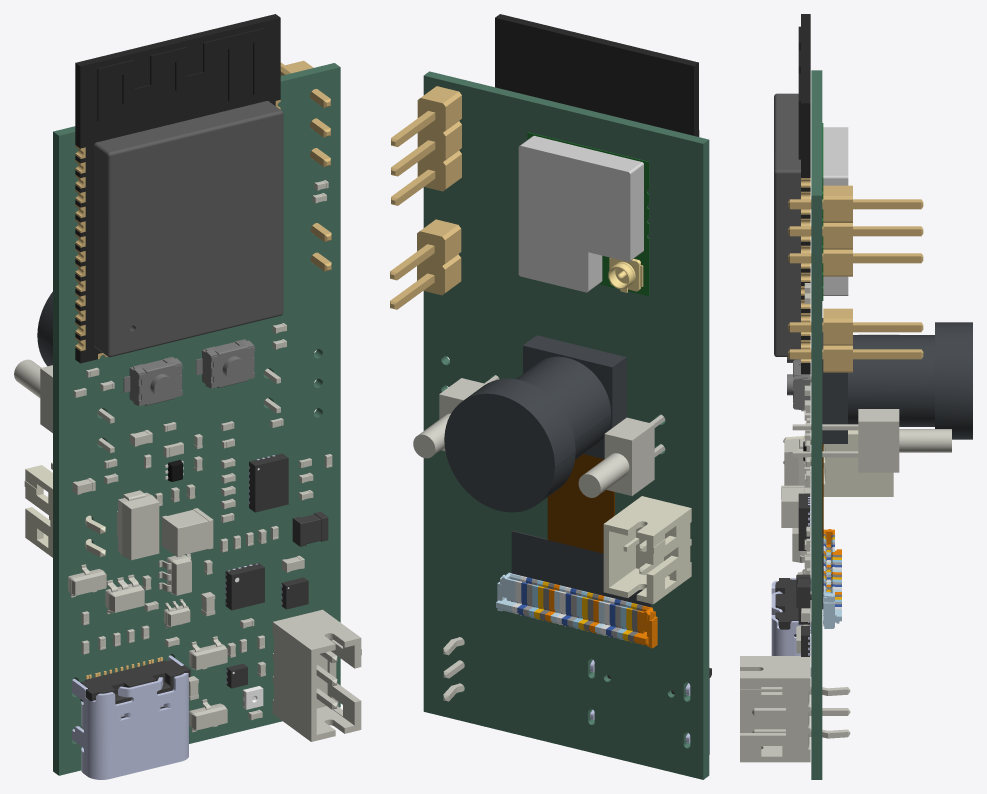
File: board.glb
3 renders of one model, left to right at view 1: azimuth 30°, elevation 25°; view 2: azimuth 150°, elevation 25°; view 3: azimuth 270°, elevation 25°, orthographic. The views are drawn at different scales.
Visible parts, largest first — view 1: OCRPCB-unsaved-export-ZQ7tpQ_PCB__259, ESP32-S3-WROOM-1__18, ESP32-S3-WROOM-1__17, UJ20-C-H-G-SMT-1-P16-TR_UJ20-C-H-G-SMT-1-P16-TR__110, JST_B3B_PH_K__128, ESP32-S3-WROOM-1__16, D_SMA__222, JST_B2B_PH_K__227, SW_SPST_TS-1088-xR020_1__215, SW_SPST_TS-1088-xR020__171, UJ20-C-H-G-SMT-1-P16-TR_UJ20-C-H-G-SMT-1-P16-TR__109, L_1210_3225Metric__160 (+12 smaller); view 2: OCRPCB-unsaved-export-ZQ7tpQ_PCB__259, Camera body__261, Extruded__258, ESP32-S3-WROOM-1__17, JST_B2B_PH_K__227, PinHeader_1x03_P254mm_Vertical__254, LED_D2.0mm_W4.8mm_H2.5mm_FlatTop_1__255, FPC Bottom__260, FPC__262, PinHeader_1x02_P254mm_Vertical__228, LED_D2.0mm_W4.8mm_H2.5mm_FlatTop__253, Open CASCADE STEP translator 6.8 2.1.1.1__256 (+4 smaller); view 3: Camera body__261, OCRPCB-unsaved-export-ZQ7tpQ_PCB__259, JST_B3B_PH_K__128, ESP32-S3-WROOM-1__18, PinHeader_1x03_P254mm_Vertical__254, LED_D2.0mm_W4.8mm_H2.5mm_FlatTop__253, PinHeader_1x02_P254mm_Vertical__228, JST_B2B_PH_K__227, ESP32-S3-WROOM-1__17, Extruded__258, UJ20-C-H-G-SMT-1-P16-TR_UJ20-C-H-G-SMT-1-P16-TR__110, UJ20-C-H-G-SMT-1-P16-TR_UJ20-C-H-G-SMT-1-P16-TR__109 (+6 smaller).
Boxes of the visible parts, x1=… form: OCRPCB-unsaved-export-ZQ7tpQ_PCB__259: x1=53, y1=63, x2=340, y2=775; ESP32-S3-WROOM-1__18: x1=94, y1=101, x2=283, y2=357; ESP32-S3-WROOM-1__17: x1=75, y1=14, x2=280, y2=363; UJ20-C-H-G-SMT-1-P16-TR_UJ20-C-H-G-SMT-1-P16-TR__110: x1=72, y1=655, x2=188, y2=779; JST_B3B_PH_K__128: x1=272, y1=609, x2=361, y2=741; ESP32-S3-WROOM-1__16: x1=97, y1=27, x2=265, y2=121; D_SMA__222: x1=117, y1=490, x2=159, y2=560; JST_B2B_PH_K__227: x1=24, y1=462, x2=105, y2=557; SW_SPST_TS-1088-xR020_1__215: x1=123, y1=357, x2=182, y2=406; SW_SPST_TS-1088-xR020__171: x1=196, y1=339, x2=254, y2=388; UJ20-C-H-G-SMT-1-P16-TR_UJ20-C-H-G-SMT-1-P16-TR__109: x1=80, y1=660, x2=190, y2=718; L_1210_3225Metric__160: x1=161, y1=508, x2=213, y2=557; OCRPCB-unsaved-export-ZQ7tpQ_PCB__259: x1=423, y1=71, x2=709, y2=779; Camera body__261: x1=444, y1=335, x2=626, y2=512; Extruded__258: x1=518, y1=135, x2=643, y2=292; ESP32-S3-WROOM-1__17: x1=495, y1=14, x2=698, y2=136; JST_B2B_PH_K__227: x1=603, y1=496, x2=691, y2=604; PinHeader_1x03_P254mm_Vertical__254: x1=391, y1=86, x2=461, y2=205; LED_D2.0mm_W4.8mm_H2.5mm_FlatTop_1__255: x1=578, y1=414, x2=665, y2=497; FPC Bottom__260: x1=511, y1=530, x2=650, y2=607; FPC__262: x1=547, y1=454, x2=614, y2=553; PinHeader_1x02_P254mm_Vertical__228: x1=390, y1=219, x2=461, y2=309; LED_D2.0mm_W4.8mm_H2.5mm_FlatTop__253: x1=413, y1=375, x2=499, y2=458; Open CASCADE STEP translator 6.8 2.1.1.1__256: x1=527, y1=132, x2=649, y2=296; Camera body__261: x1=822, y1=318, x2=972, y2=443; OCRPCB-unsaved-export-ZQ7tpQ_PCB__259: x1=811, y1=70, x2=822, y2=779; JST_B3B_PH_K__128: x1=740, y1=656, x2=850, y2=762; ESP32-S3-WROOM-1__18: x1=774, y1=93, x2=800, y2=356; PinHeader_1x03_P254mm_Vertical__254: x1=788, y1=185, x2=923, y2=276; LED_D2.0mm_W4.8mm_H2.5mm_FlatTop__253: x1=792, y1=409, x2=951, y2=472; PinHeader_1x02_P254mm_Vertical__228: x1=788, y1=308, x2=923, y2=372; JST_B2B_PH_K__227: x1=783, y1=430, x2=893, y2=496; ESP32-S3-WROOM-1__17: x1=801, y1=14, x2=810, y2=374; Extruded__258: x1=823, y1=127, x2=848, y2=295; UJ20-C-H-G-SMT-1-P16-TR_UJ20-C-H-G-SMT-1-P16-TR__110: x1=771, y1=578, x2=811, y2=676; UJ20-C-H-G-SMT-1-P16-TR_UJ20-C-H-G-SMT-1-P16-TR__109: x1=775, y1=578, x2=811, y2=636.
Bounding box in the file's own units: 25.3 × 60.94 × 19.85.
